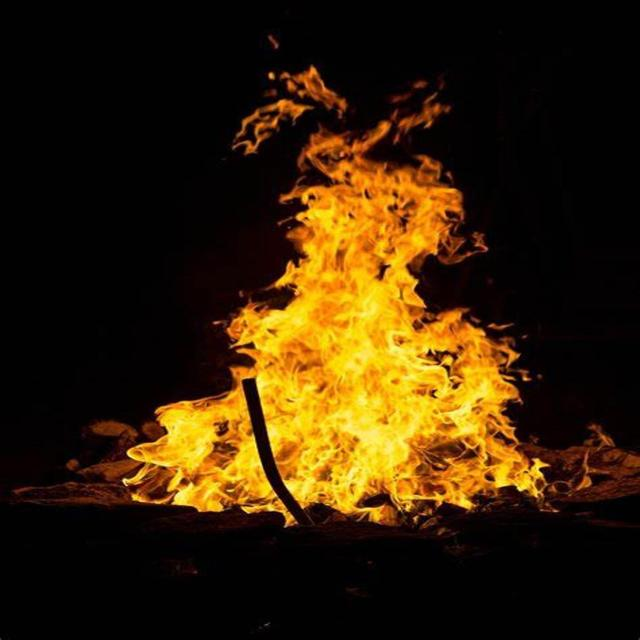fire: (240, 6, 488, 536), (144, 378, 213, 506)
